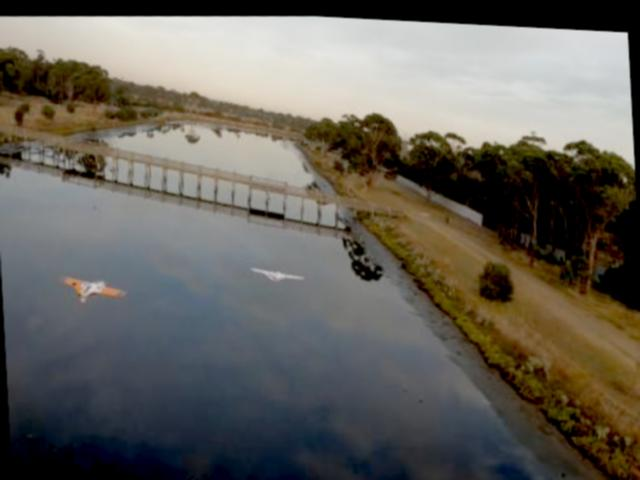uav: (58, 268, 128, 308), (248, 257, 307, 288)
